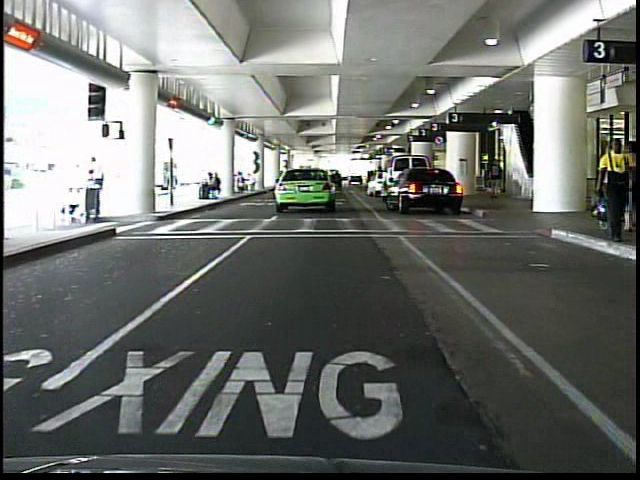person: (585, 134, 629, 246), (83, 155, 116, 228), (612, 144, 638, 232), (487, 158, 504, 203)
